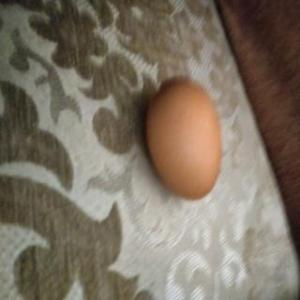egg: (143, 77, 227, 197)
